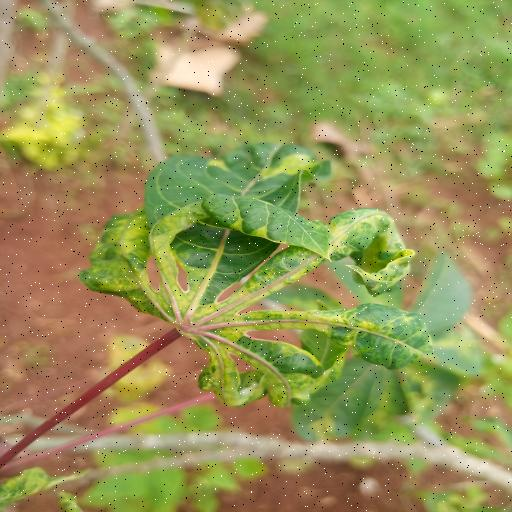Cassava_Mosaic: (85, 137, 463, 410)
